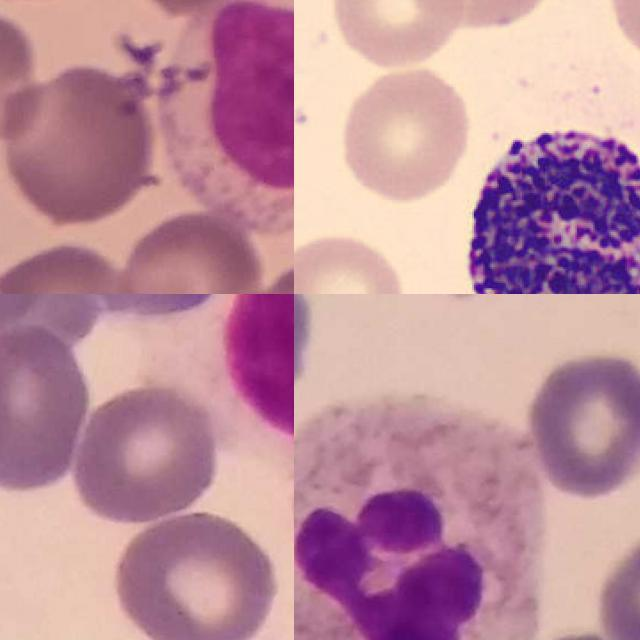Basophil: (442, 113, 640, 294)
Lymphocyte: (161, 0, 294, 234), (223, 294, 294, 447)
Neutrophil: (294, 397, 539, 640)
RBC: (335, 63, 474, 206), (326, 0, 470, 69), (294, 228, 410, 294), (406, 0, 561, 32)
